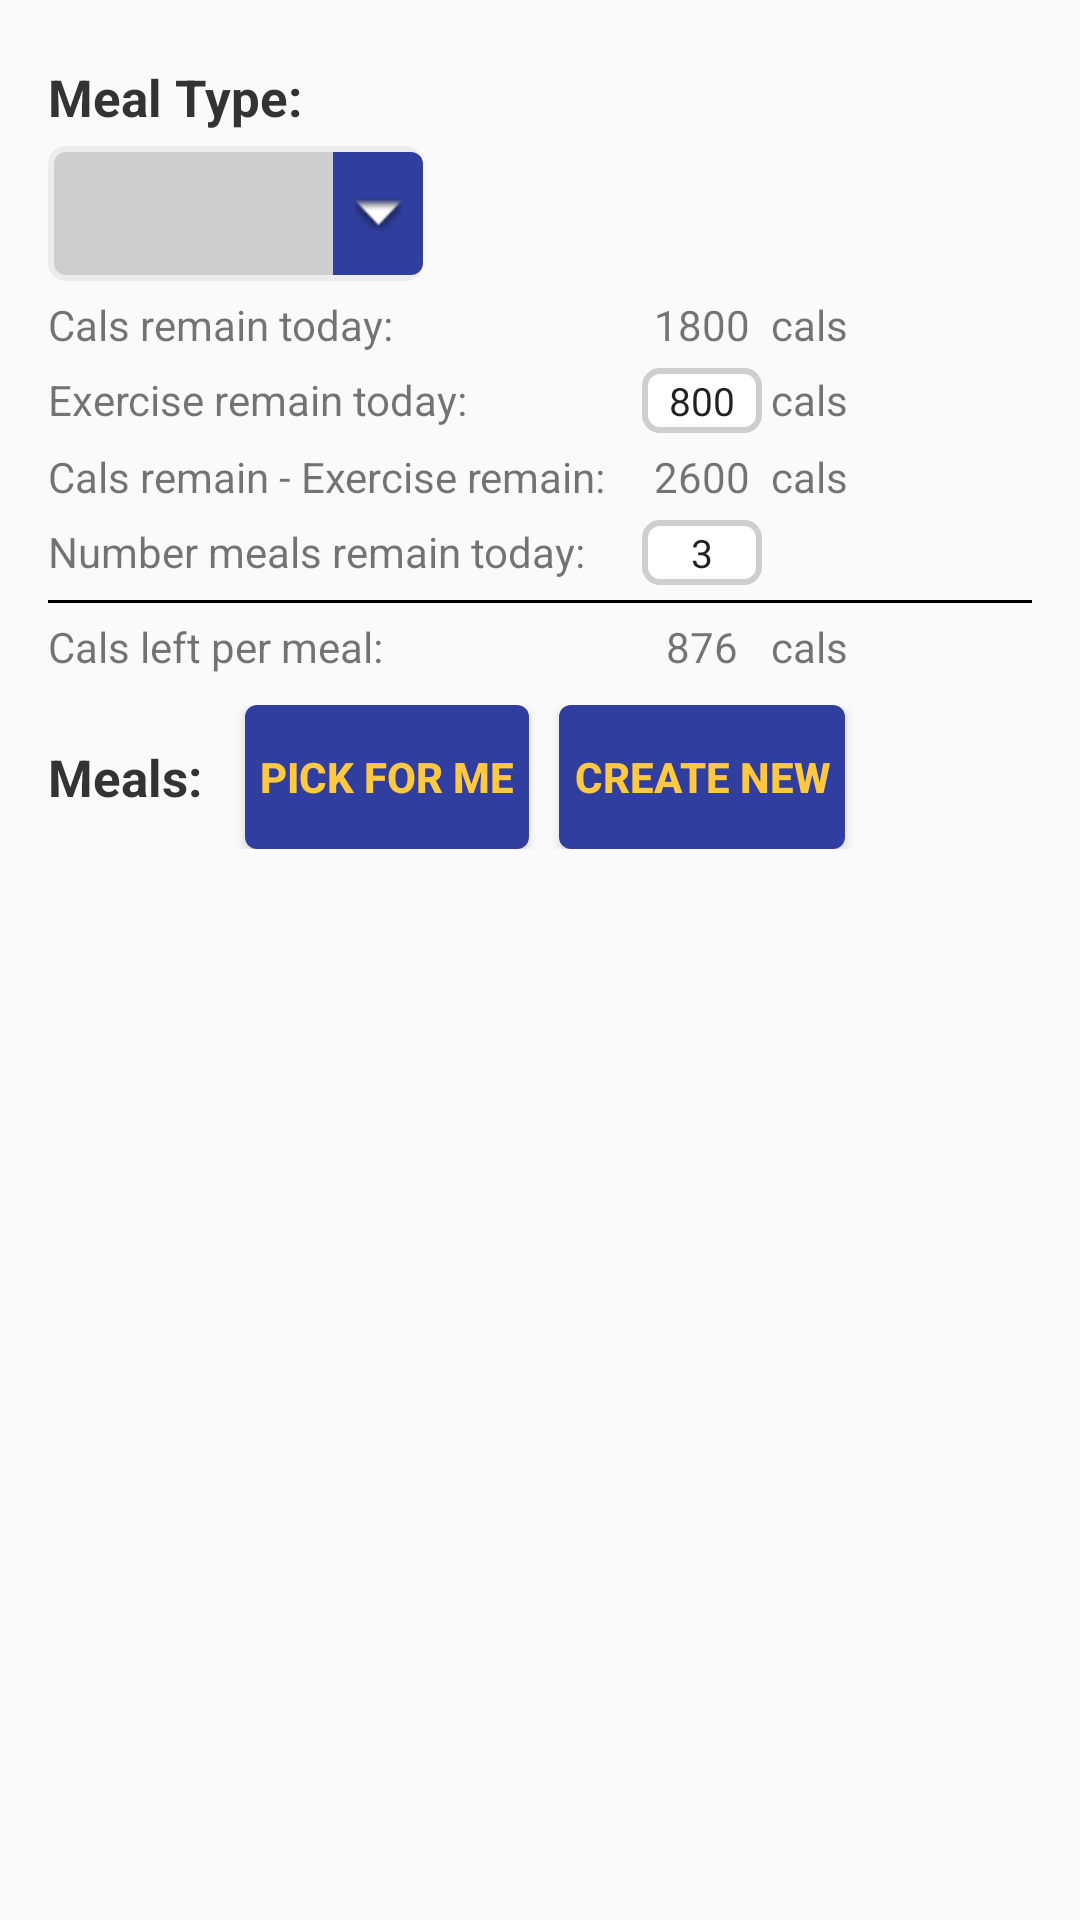

Named icons in this screenshot (1080px x 1920px) and their bounding boxes, (x1, y1, x2, y2):
arrow down float: (333, 152, 423, 275)
